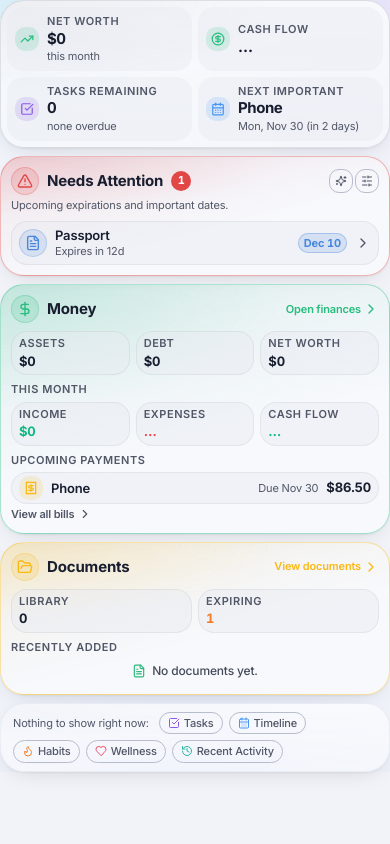
Scenario: ExecutiveBriefing › opens Bills & Payments — the Finance tab's panel — from a bill row
Expected: the element with test id "exec-card-attention" is shown, 0,156 -> 389,276
Step 1. Click the button with test id "exec-money-bill-b1" → click(71, 488), box 11,472 -> 379,504
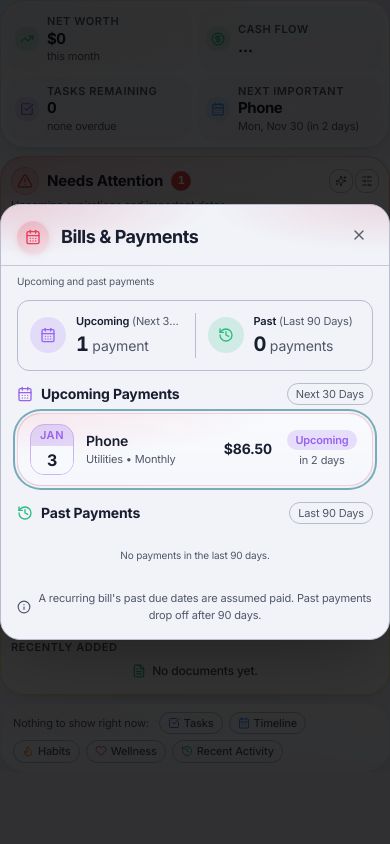
Expected: the element with test id "popup-bills" does not show "overdue"
Result: the element with test id "bills-timeline" shows "Phone" at 17,413 -> 373,486
